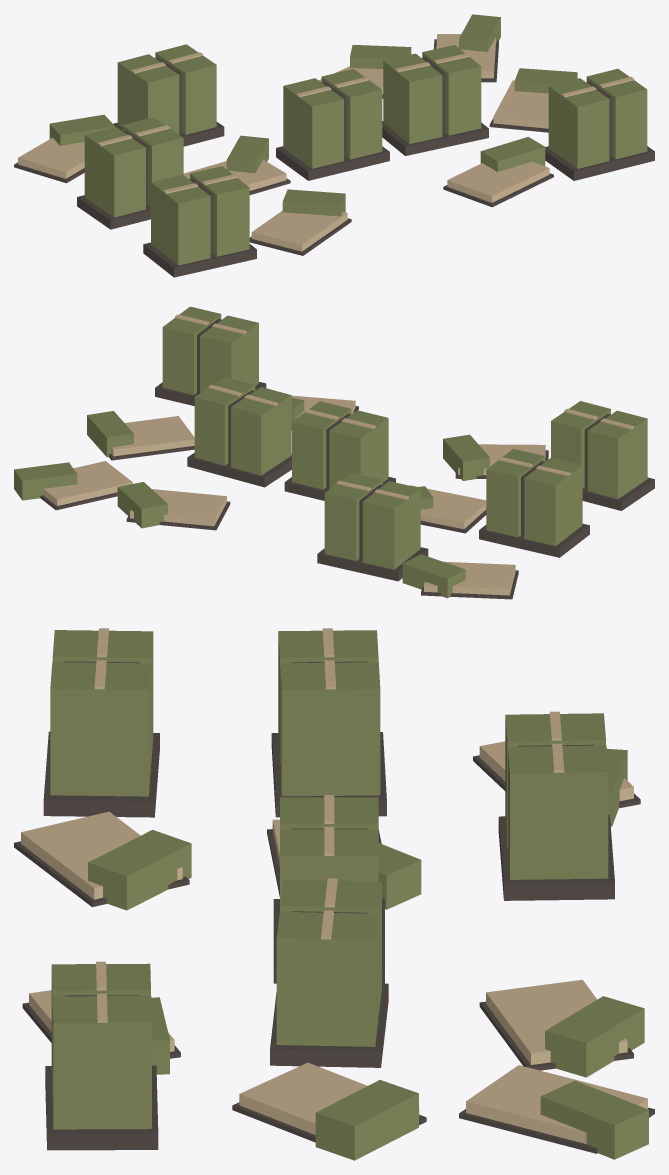
The model's file is SM_AcopioMunicion_v3_Saqueado_LOD1.fbx.
The picture shows the model from 3 angles, top to bottom: view 1: azimuth 30°, elevation 25°; view 2: azimuth 150°, elevation 25°; view 3: azimuth 270°, elevation 25°; orthographic projection. The views are drawn at different scales.
Visible parts, largest first — view 1: SM_acopio_carga_v3_LOD1; view 2: SM_acopio_carga_v3_LOD1; view 3: SM_acopio_carga_v3_LOD1.
Part boxes in pixels (bbox=[...]): SM_acopio_carga_v3_LOD1: bbox=[14, 14, 654, 277]; SM_acopio_carga_v3_LOD1: bbox=[14, 306, 654, 599]; SM_acopio_carga_v3_LOD1: bbox=[14, 628, 654, 1160].
Size of the model in its own units: 7.84 by 1.09 by 5.07.
